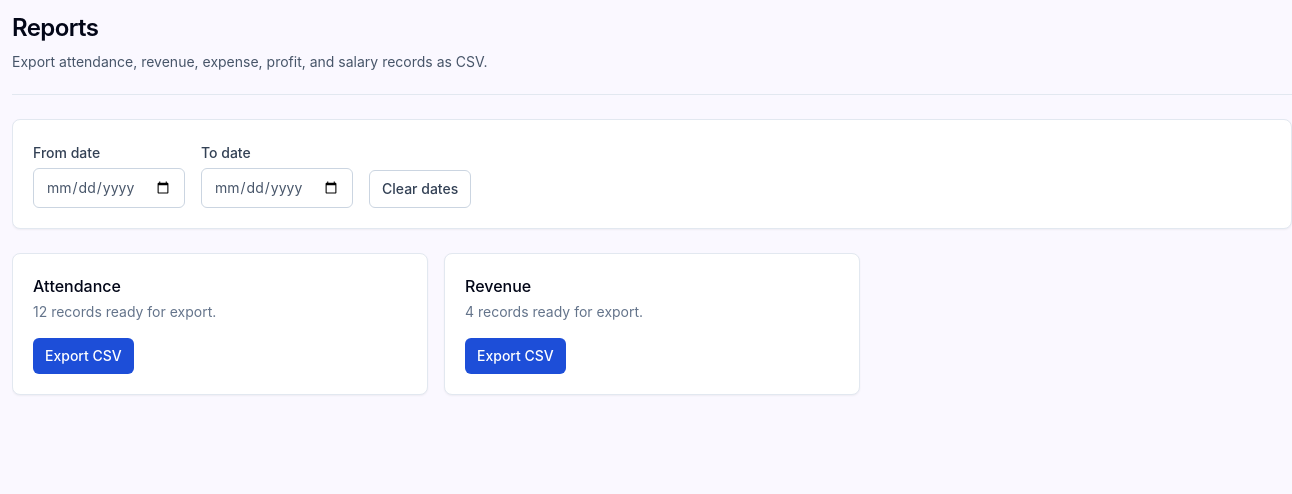
Test: reports CSV controls › shows export errors accessibly
Step 1. Click the button "Export CSV" below "12" → (83, 356), box [33,338,134,374]
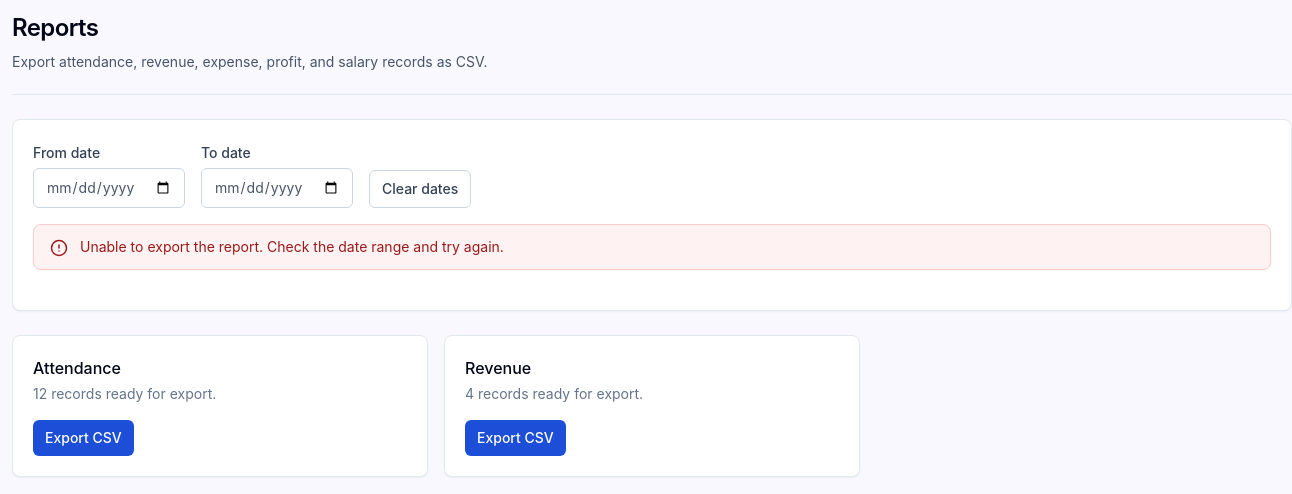
Result: the message shows "Unable to export" at [80,238,504,255]
